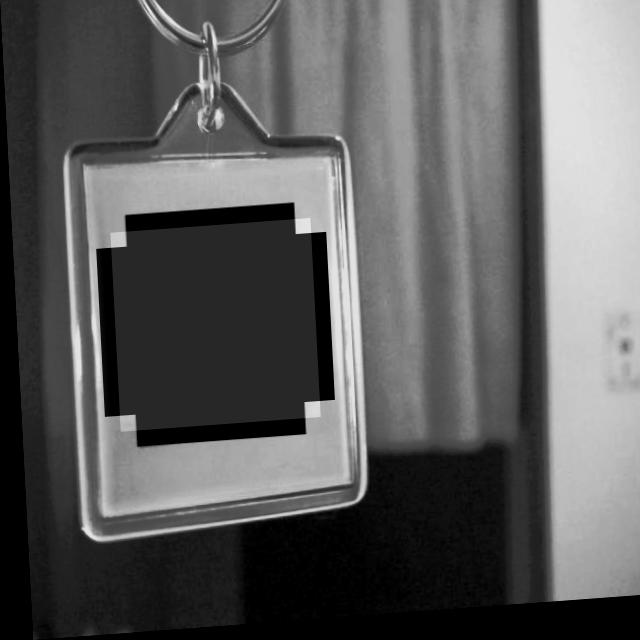qr_code: (108, 223, 316, 433)
